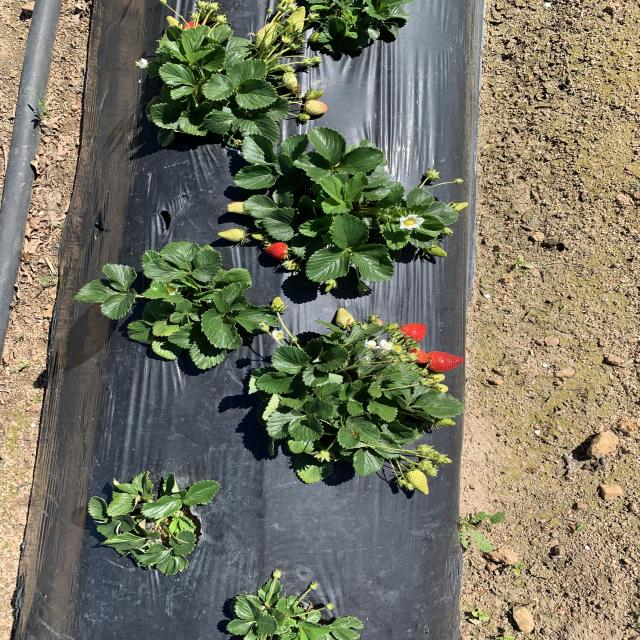unripe: (425, 352, 467, 372), (395, 323, 430, 343), (264, 242, 292, 260), (182, 21, 206, 40), (406, 347, 429, 364)
